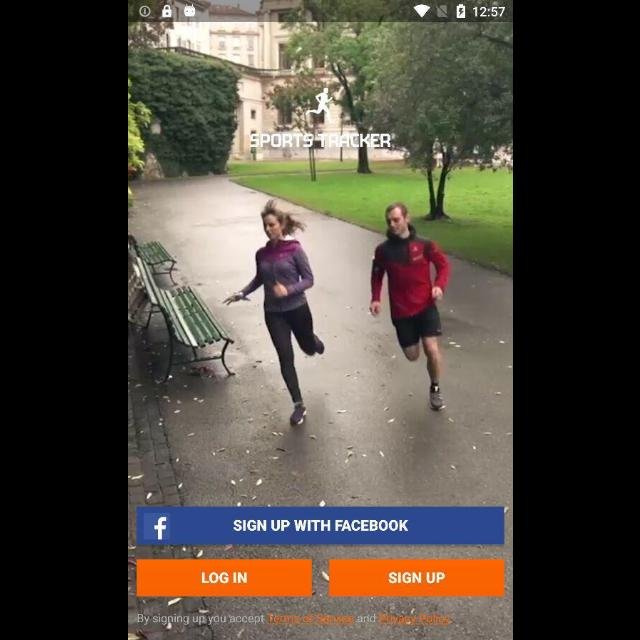backgroundimage: (128, 22, 512, 640)
image: (304, 88, 336, 124)
text: (137, 614, 449, 626), (249, 134, 391, 148)
textbutton: (136, 507, 504, 545), (328, 560, 504, 596), (136, 560, 312, 596)
uppertaskbar: (128, 1, 512, 23)
